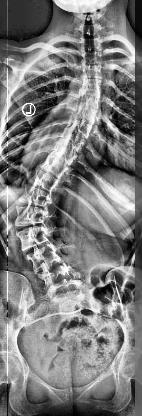Vertebrae: (24, 244, 64, 274), (15, 225, 55, 252), (12, 204, 56, 228), (36, 266, 78, 289), (18, 183, 52, 209), (39, 154, 71, 180), (64, 115, 94, 141), (27, 168, 59, 192), (48, 144, 80, 166), (58, 131, 88, 153), (73, 105, 99, 125), (78, 36, 106, 54), (78, 49, 106, 67), (77, 76, 105, 94), (76, 92, 104, 110), (80, 64, 104, 80)
